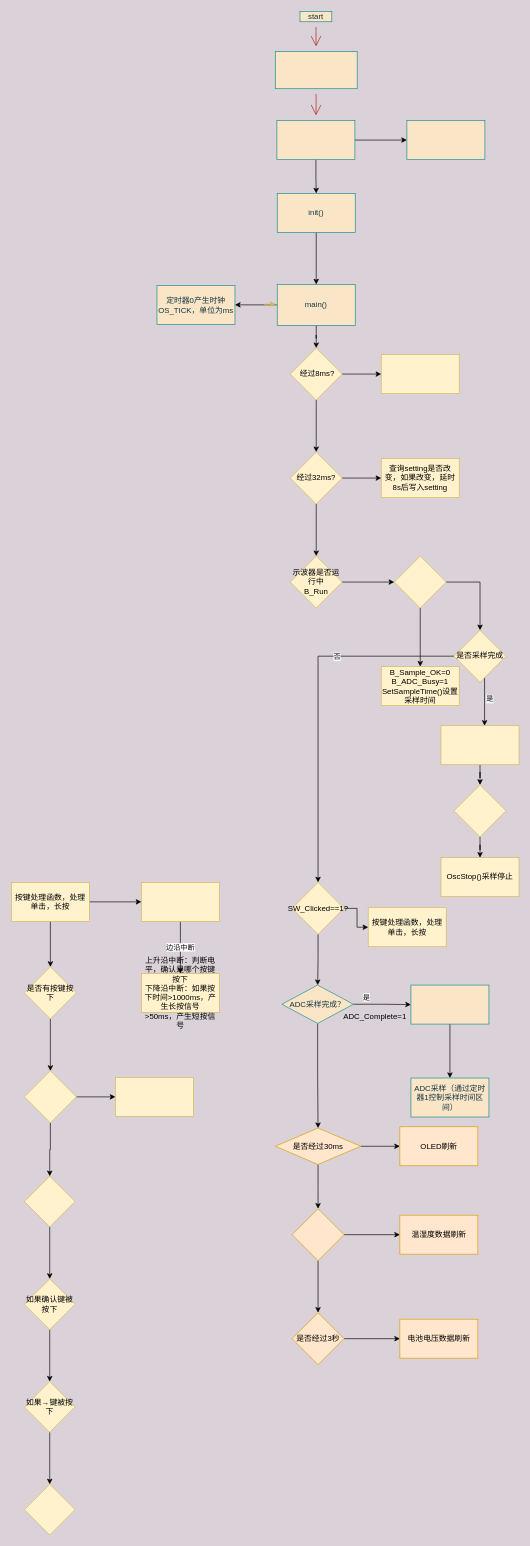
The diagram is 530 pixels wide and 1546 high, and some of its shapes have lost their labels. Each missing label, with the centre of its shape:
"ADC采样运行中？ B_ADC_Busy" goes at point (420, 581).
"AutoCheck() 触发超时处理" goes at point (420, 374).
"B_ADC_Busy=0 ShowOscope()显示波形" goes at point (479, 745).
"reg_init()" goes at point (316, 70).
"setting_init()" goes at point (315, 140).
"分析采样数据 ADC_Complete=0 开启下次采样" goes at point (449, 1004).
"如果A键被按下" goes at point (50, 1096).
"如果B键被按下" goes at point (49, 1509).
"如果←键被按下" goes at point (49, 1201).
"是否为单次模式" goes at point (479, 810).
"是否经过1秒" goes at point (317, 1234).
"通过PCA捕获边沿触发，可以获得按键按下，抬起，以及按下时间" goes at point (180, 901).
